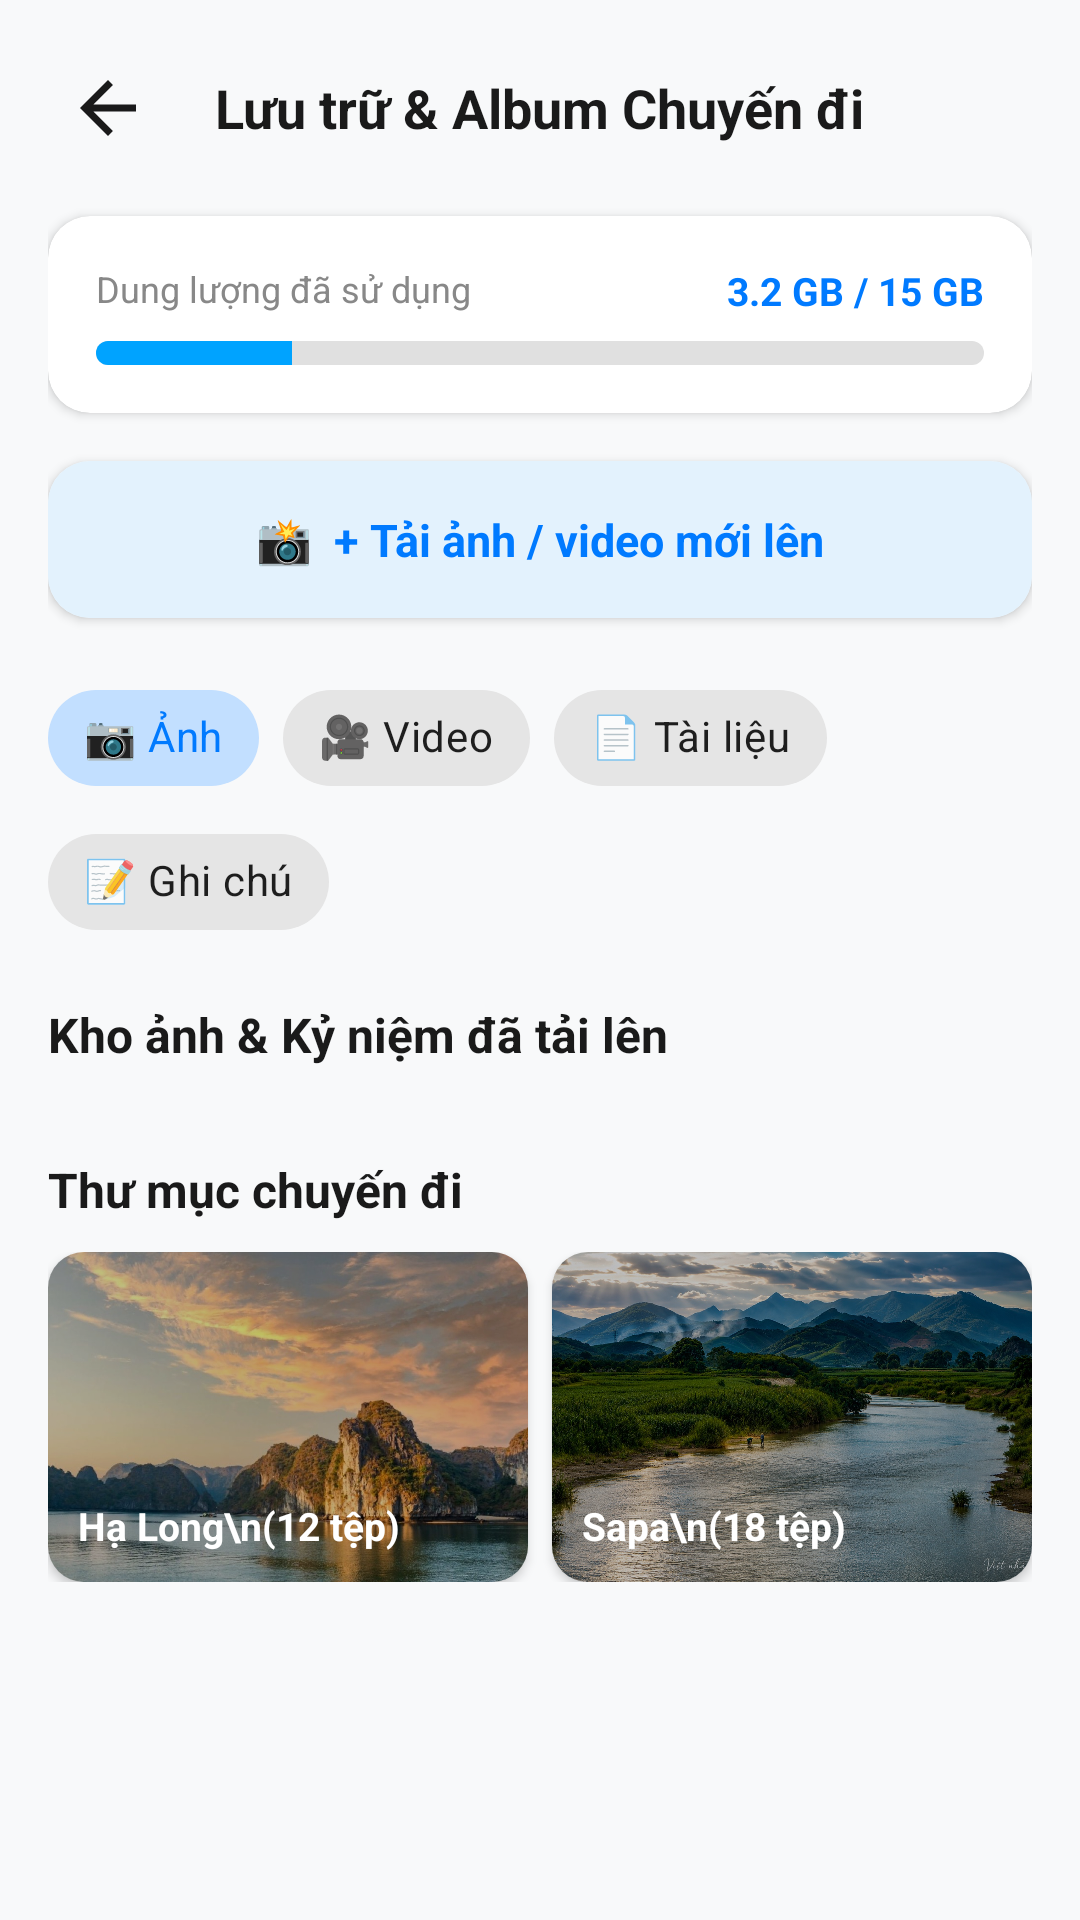

Screen size 1080 x 1920. Icon name, then its box in pixels as (x1, y1, x2, y2):
arrow back: (80, 80, 136, 136)
